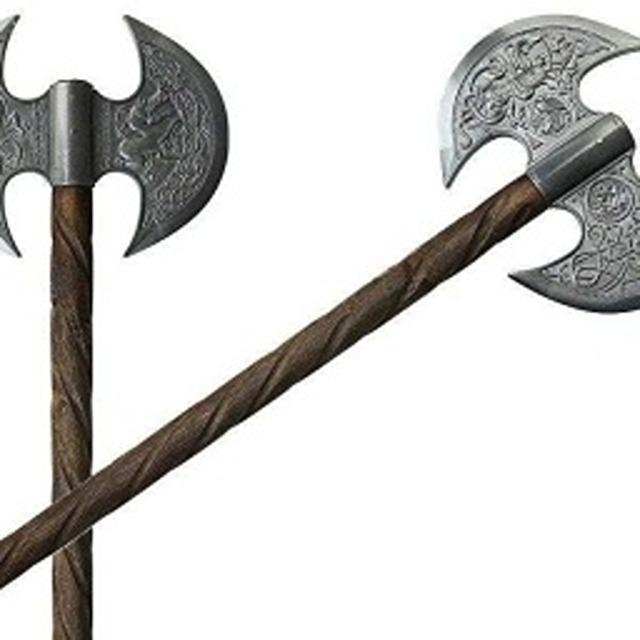ax: (0, 0, 640, 640), (2, 0, 235, 640)
